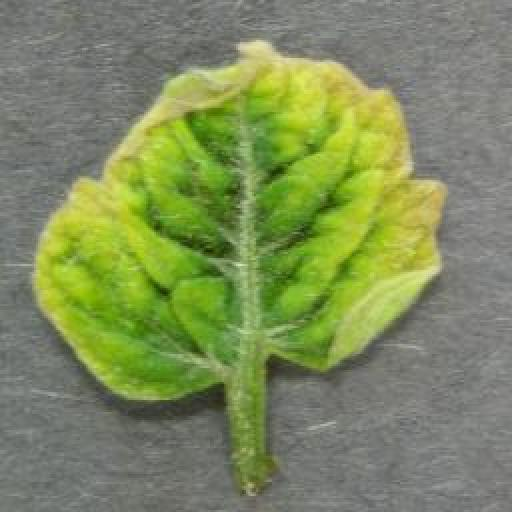disease_tomato: (34, 37, 450, 404)
